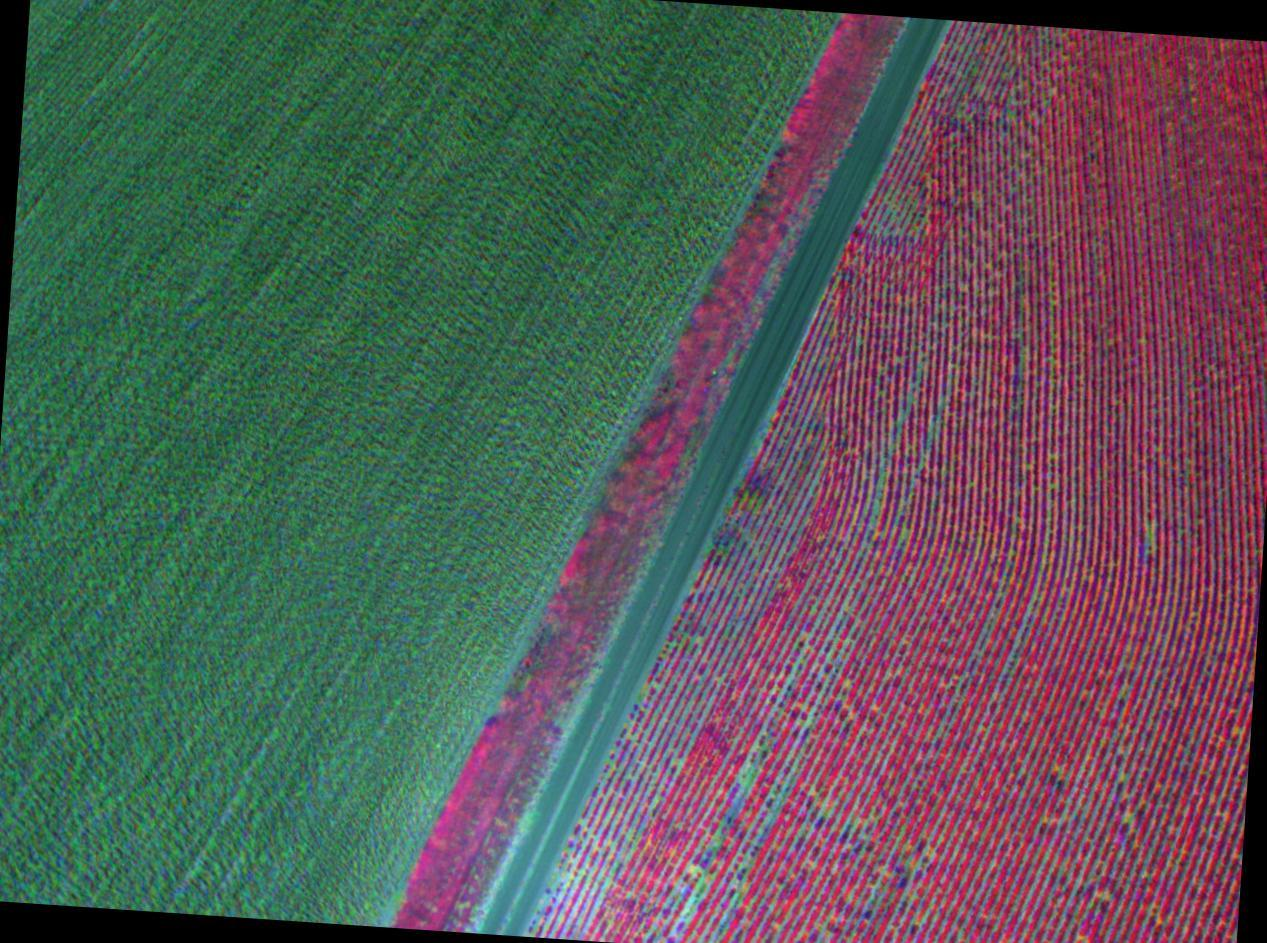dc: (898, 411, 905, 418), (744, 781, 750, 789), (1146, 533, 1151, 541), (875, 503, 880, 510), (693, 868, 698, 875), (1043, 101, 1046, 104), (888, 207, 891, 210), (897, 357, 900, 360)
